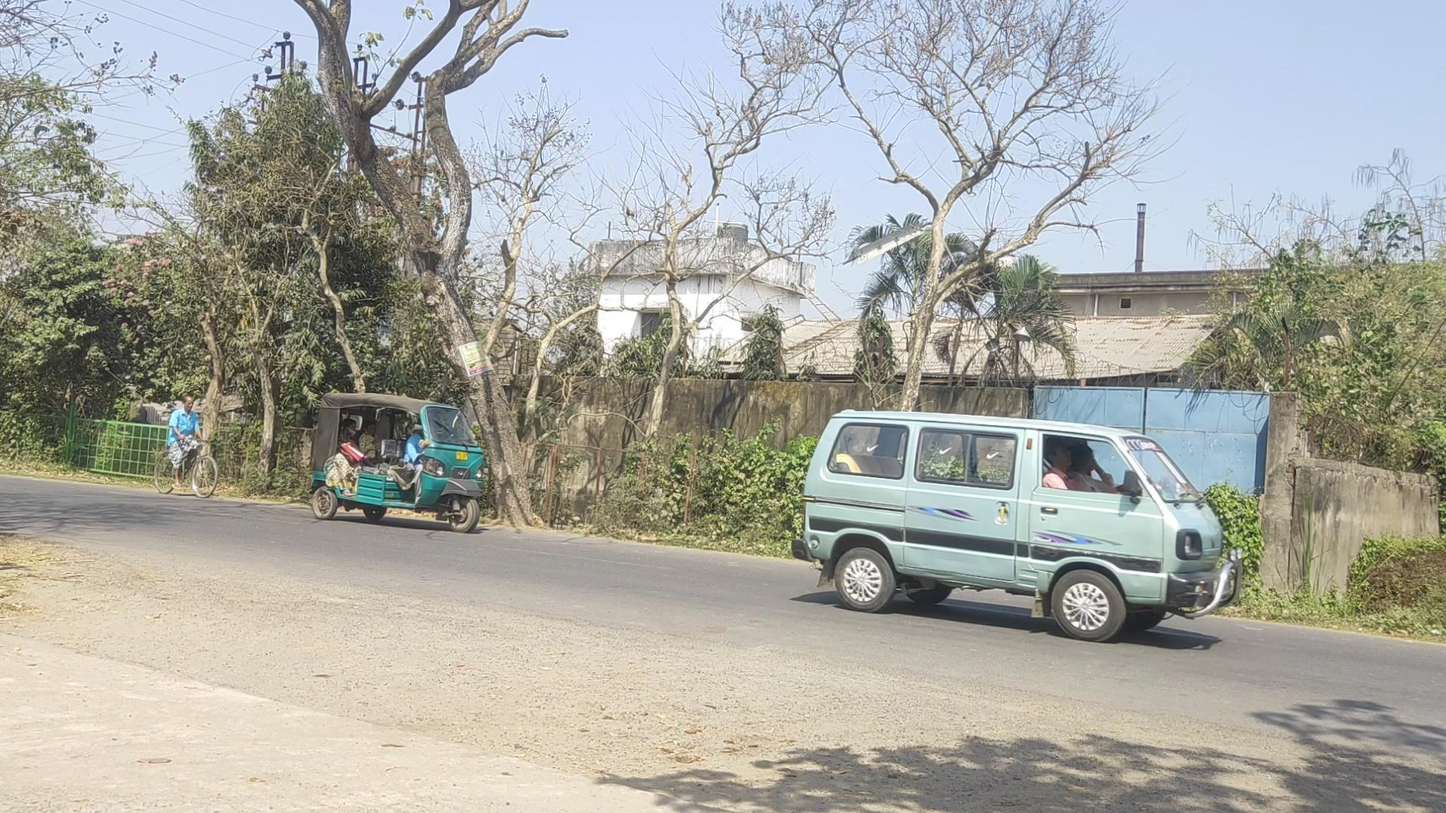Auto: (310, 391, 483, 534)
bike: (154, 396, 218, 498)
van: (793, 410, 1243, 642)
